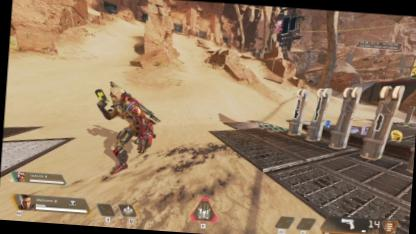Target: (89, 82, 159, 174)
